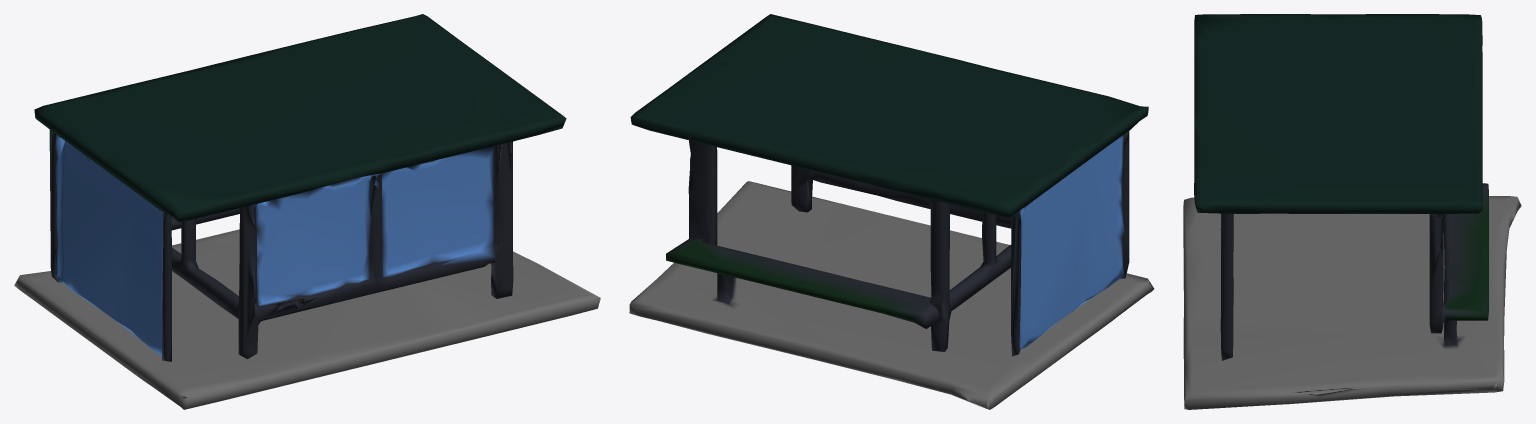
Rendered from gen3d-bus-stop-lod0.glb.
3 views of the same model, side by side, from view 1: azimuth 30°, elevation 25°; view 2: azimuth 150°, elevation 25°; view 3: azimuth 270°, elevation 25° (orthographic). The views are drawn at different scales.
Visible parts, largest first — view 1: part_0; view 2: part_0; view 3: part_0.
Part boxes in pixels (<box>): part_0: <box>14,14,600,409</box>; part_0: <box>629,14,1154,409</box>; part_0: <box>1183,14,1521,409</box>.
Size of the model in its own units: 2.23 by 0.9947 by 1.56.
